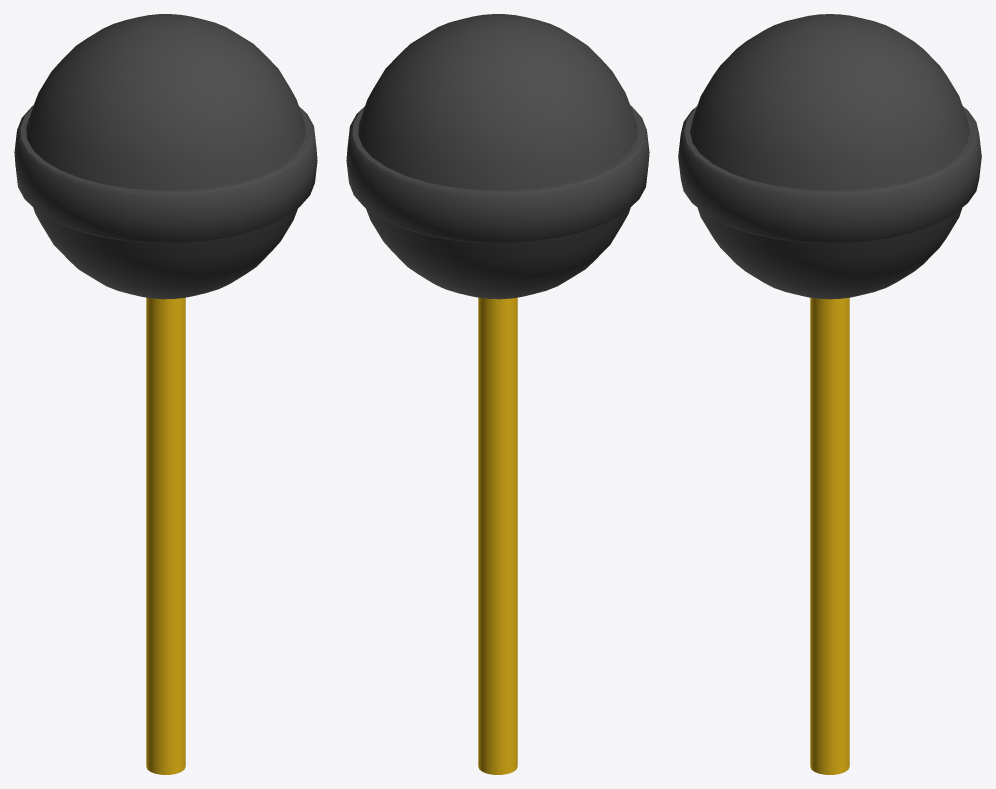
The model's file is LOLLIPOP_01.fbx.
3 views of the same model, side by side, from view 1: azimuth 30°, elevation 25°; view 2: azimuth 150°, elevation 25°; view 3: azimuth 270°, elevation 25° (orthographic).
Parts seen in each view (by area): view 1: Sphere001; view 2: Sphere001; view 3: Sphere001.
Part boxes in pixels (left/top/right/bottom): Sphere001: left=14, top=14, right=317, bottom=774; Sphere001: left=346, top=14, right=649, bottom=774; Sphere001: left=678, top=14, right=981, bottom=774.
Size of the model in its own units: 47.56 by 128 by 47.56.
